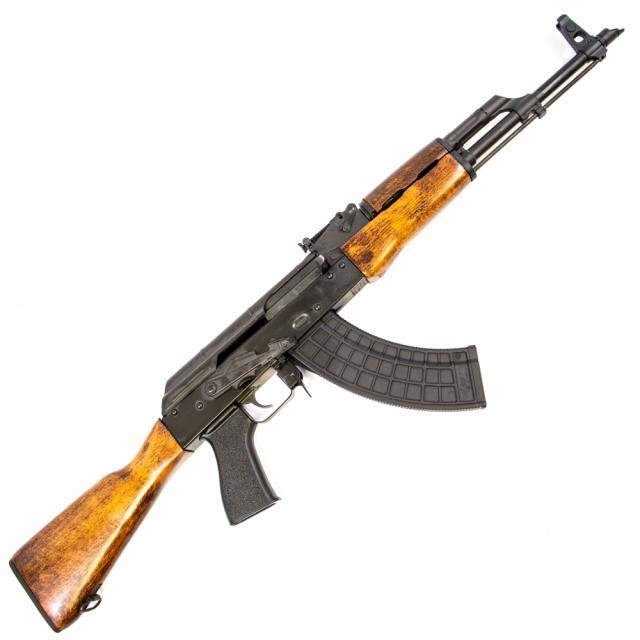weapon: (0, 12, 625, 634)
